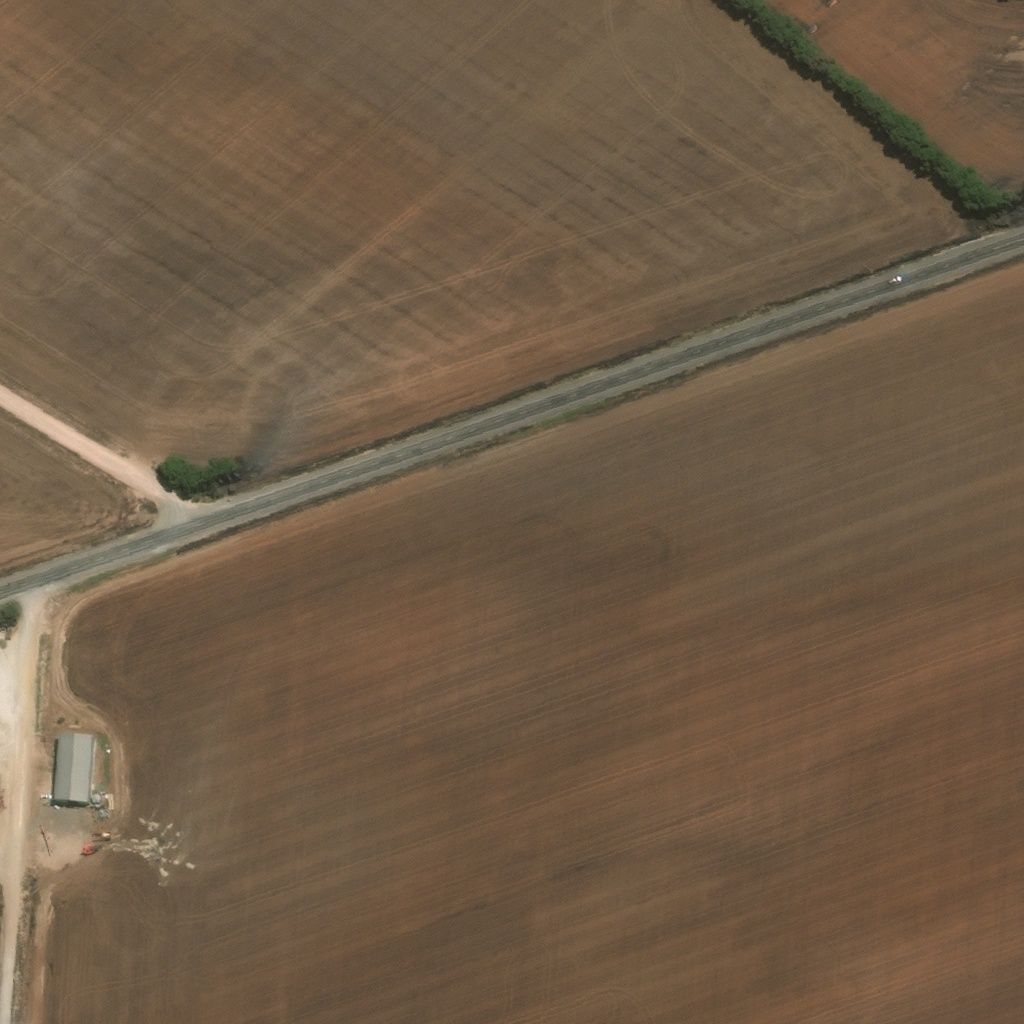0 no-damage: (54, 729, 93, 806), (90, 793, 101, 804)
